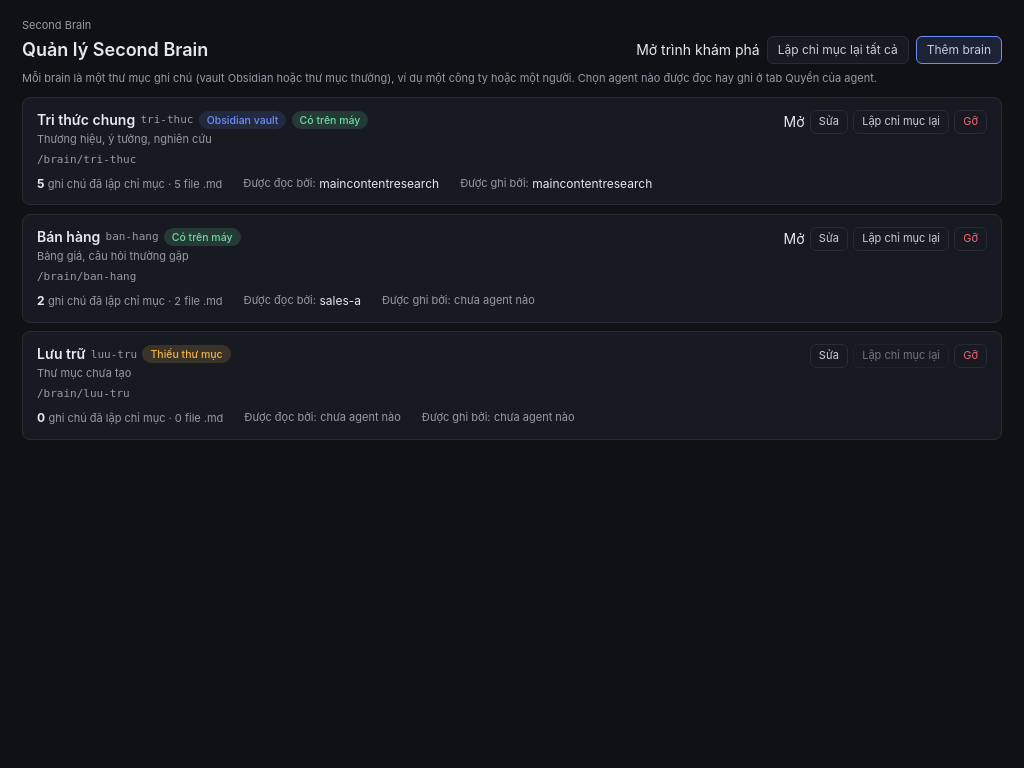
brain management and skills admin (mock api) › lists brains with vault badge, readers and the folder browser in the add modal
Click the button "Thêm brain": (959, 50) [916, 36, 1002, 64]
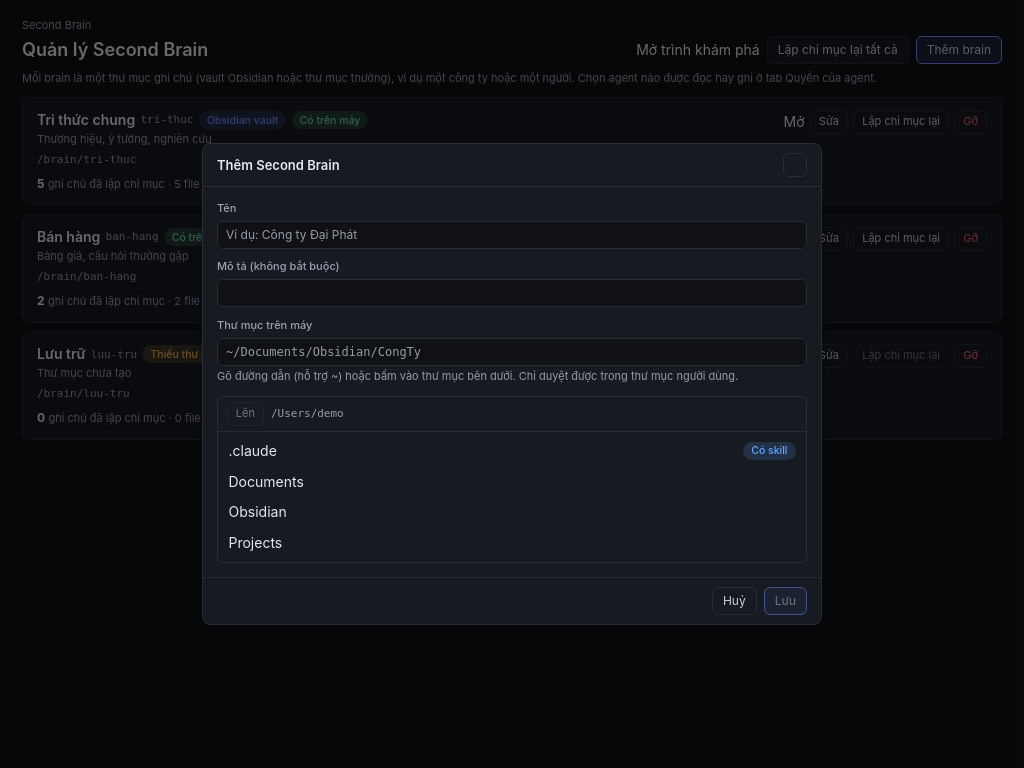
Check: the text "Thêm Second Brain" is shown, box [217, 156, 340, 174]
Check: the text "Documents" is shown, box [228, 473, 304, 490]
Click the option "Documents": (266, 481) [222, 466, 802, 497]
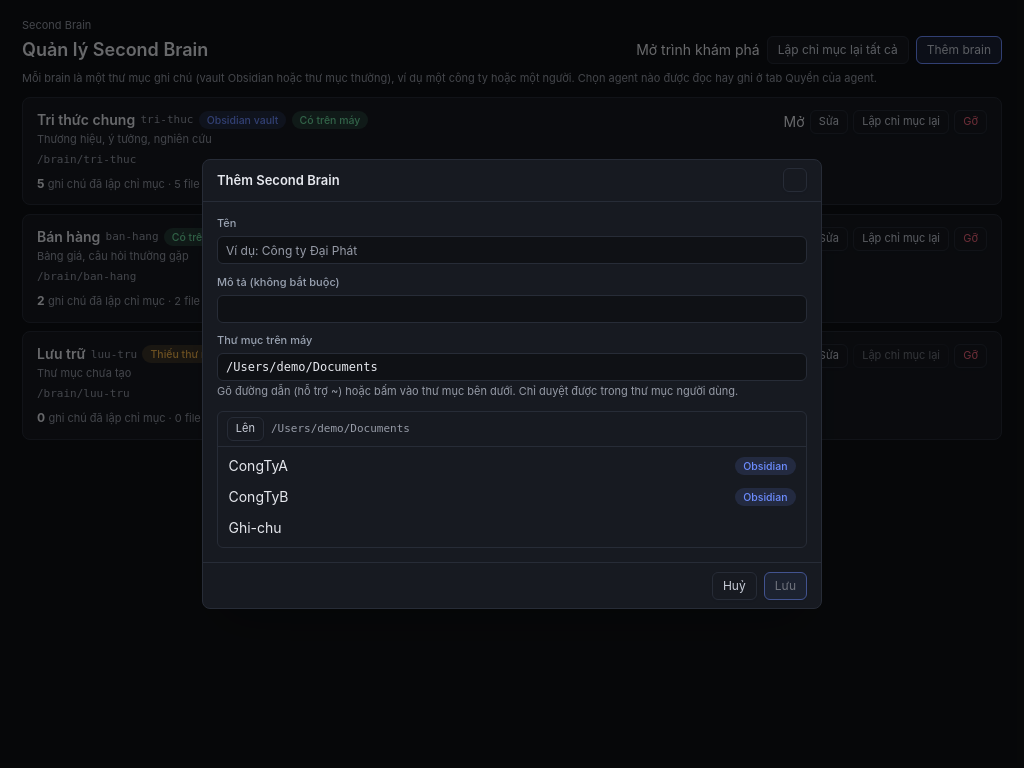
Check: the text "CongTyA Obsidian" is shown, box [222, 451, 802, 482]
